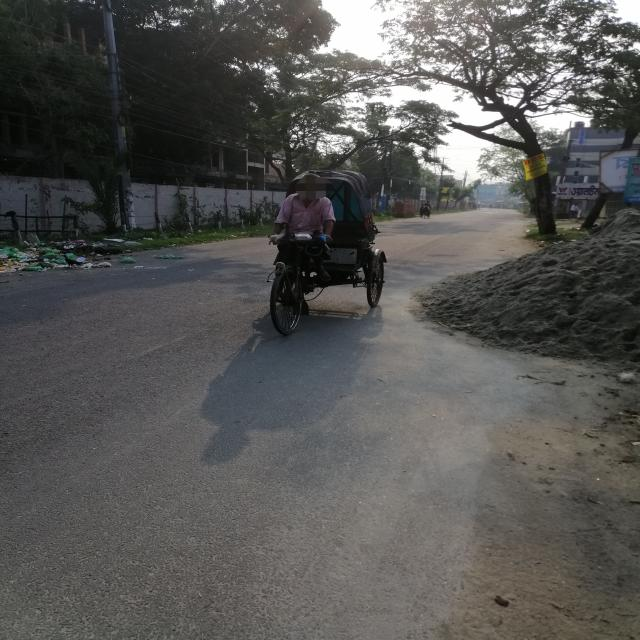Auto-Rickshaw: (225, 156, 404, 348)
